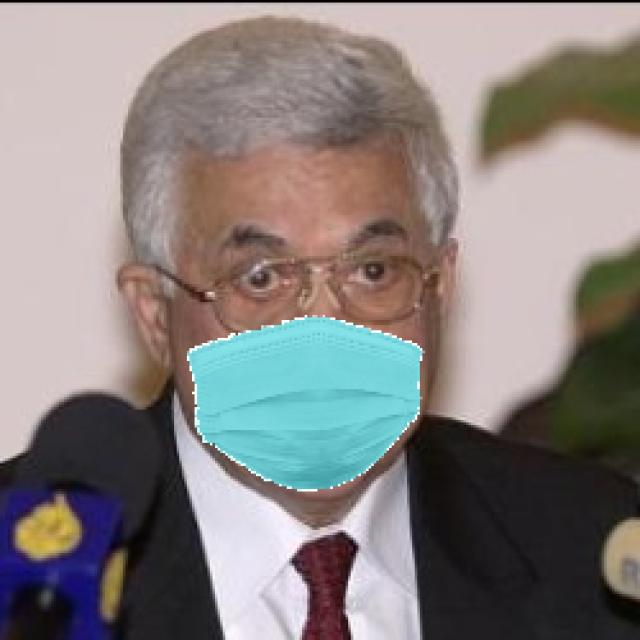mask: (166, 324, 454, 499)
